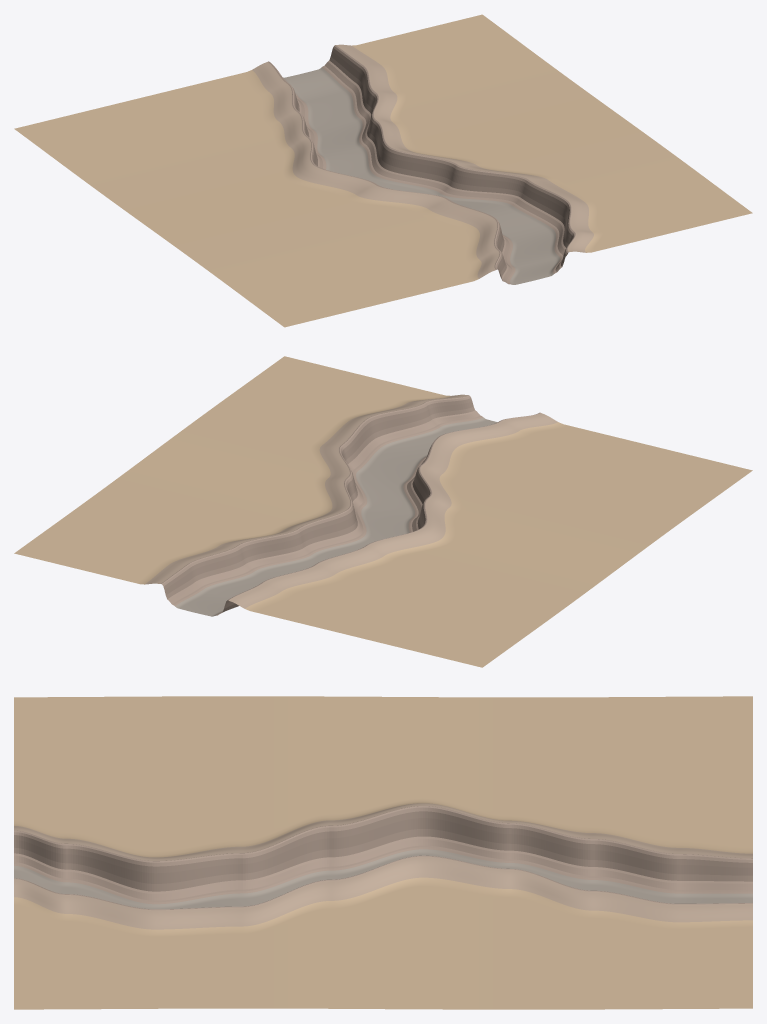
Rendered from HeroGorgeGround.fbx.
3 views of the same model, one above another, from view 1: azimuth 30°, elevation 25°; view 2: azimuth 150°, elevation 25°; view 3: azimuth 270°, elevation 25° (orthographic). The views are drawn at different scales.
Visible parts, largest first — view 1: HeroGorgeGround; view 2: HeroGorgeGround; view 3: HeroGorgeGround.
Boxes of the visible parts, <box> form: HeroGorgeGround: <box>14,14,752,327</box>; HeroGorgeGround: <box>14,356,752,667</box>; HeroGorgeGround: <box>14,696,752,1009</box>.
Bounding box in the file's own units: 120000 × 6723 × 120000.
